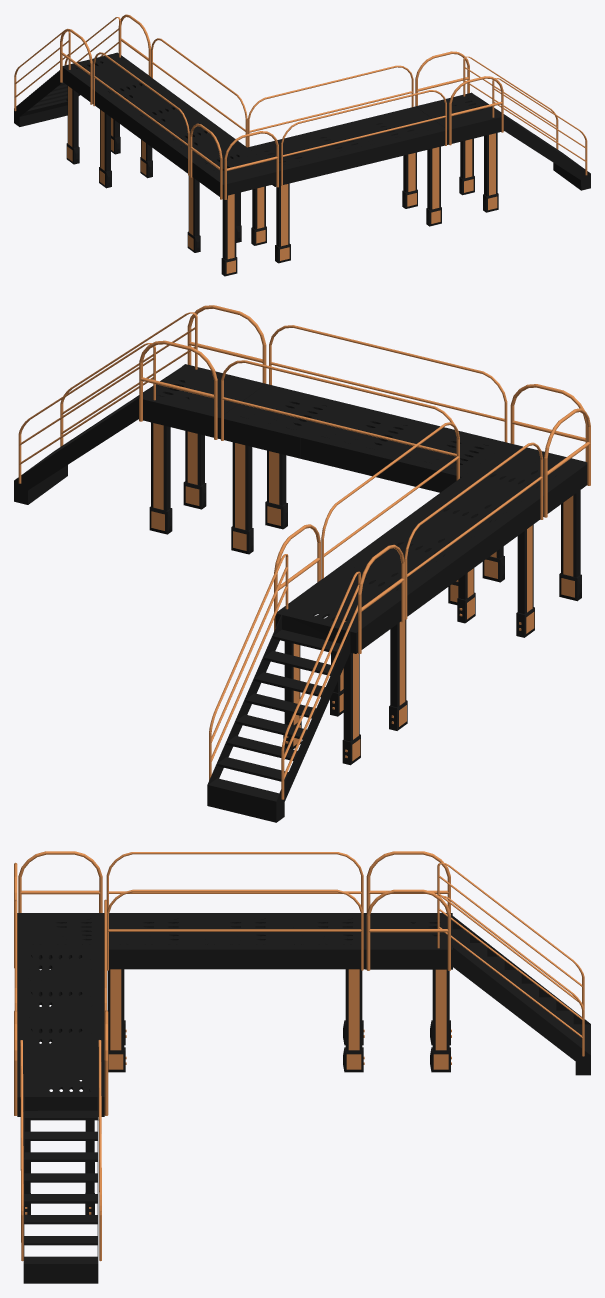
The model's file is CatwalkExample.fbx.
The picture shows the model from 3 angles, top to bottom: view 1: azimuth 30°, elevation 25°; view 2: azimuth 150°, elevation 25°; view 3: azimuth 270°, elevation 25°; orthographic projection. The views are drawn at different scales.
Visible parts, largest first — view 1: CatPlat1.001, CatPlat1.002, catStair.001, catStair.003, CatPlat1.004, CatSupportBeam.006, CatSupportBeam.005, CatSupportBeam.009, CatSupportBeam.008, CatSupportBeam.007, catPlat3Rail.005, catPlat3Rail.004 (+17 smaller); view 2: catStair.003, CatPlat1.001, CatPlat1.002, catStair.001, CatPlat1.004, CatSupportBeam.005, CatSupportBeam.013, CatSupportBeam.010, CatSupportBeam.006, catStairRail.006, catStairRail.007, catPlat3Rail.005 (+16 smaller); view 3: CatPlat1.002, catStair.001, catStair.003, CatPlat1.001, CatPlat1.004, catPlat3Rail.006, CatSupportBeam.003, CatSupportBeam.001, CatSupportBeam.005, catStairRail.006, catPlat3Rail.007, catStairRail.007 (+6 smaller).
Part boxes in pixels (x1,y1,x2,y2): CatPlat1.001: (247, 106, 447, 185); CatPlat1.002: (95, 76, 246, 174); catStair.001: (416, 92, 590, 190); catStair.003: (14, 52, 149, 126); CatPlat1.004: (192, 147, 279, 199); CatSupportBeam.006: (221, 193, 237, 276); CatSupportBeam.005: (187, 175, 241, 252); CatSupportBeam.009: (483, 133, 498, 212); CatSupportBeam.008: (426, 146, 441, 226); CatSupportBeam.007: (275, 183, 290, 263); catPlat3Rail.005: (281, 90, 446, 185); catPlat3Rail.004: (247, 65, 413, 147); catStair.003: (207, 579, 401, 822); CatPlat1.001: (219, 384, 507, 492); CatPlat1.002: (323, 477, 540, 616); catStair.001: (14, 364, 265, 504); CatPlat1.004: (462, 443, 587, 516); CatSupportBeam.005: (457, 524, 534, 637); CatSupportBeam.013: (231, 442, 253, 554); CatSupportBeam.010: (149, 422, 172, 534); CatSupportBeam.006: (559, 490, 581, 601); catStairRail.006: (209, 554, 288, 780); catStairRail.007: (281, 571, 360, 799); catPlat3Rail.005: (269, 325, 507, 442); CatPlat1.002: (109, 913, 365, 969); catStair.001: (17, 1060, 104, 1283); catStair.003: (365, 913, 590, 1075); CatPlat1.001: (17, 949, 104, 1060); CatPlat1.004: (17, 913, 104, 969); catPlat3Rail.006: (107, 889, 363, 970); CatSupportBeam.003: (343, 969, 364, 1072); CatSupportBeam.001: (430, 969, 451, 1072); CatSupportBeam.005: (107, 969, 126, 1072); catStairRail.006: (437, 895, 584, 1056); catPlat3Rail.007: (106, 852, 363, 912); catStairRail.007: (437, 862, 584, 1009).
Bounding box in the file's own units: 1327 × 1324 × 479.
